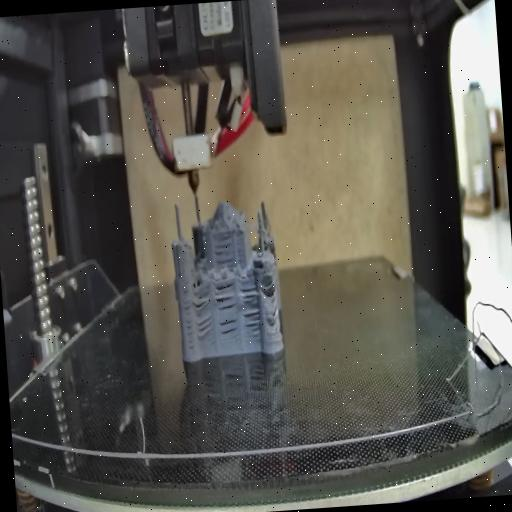cracks: (238, 284, 262, 338), (182, 282, 194, 350), (213, 232, 235, 264), (214, 282, 237, 310), (219, 312, 240, 340), (193, 288, 211, 316), (262, 300, 280, 328), (195, 316, 214, 339), (263, 273, 279, 298)
